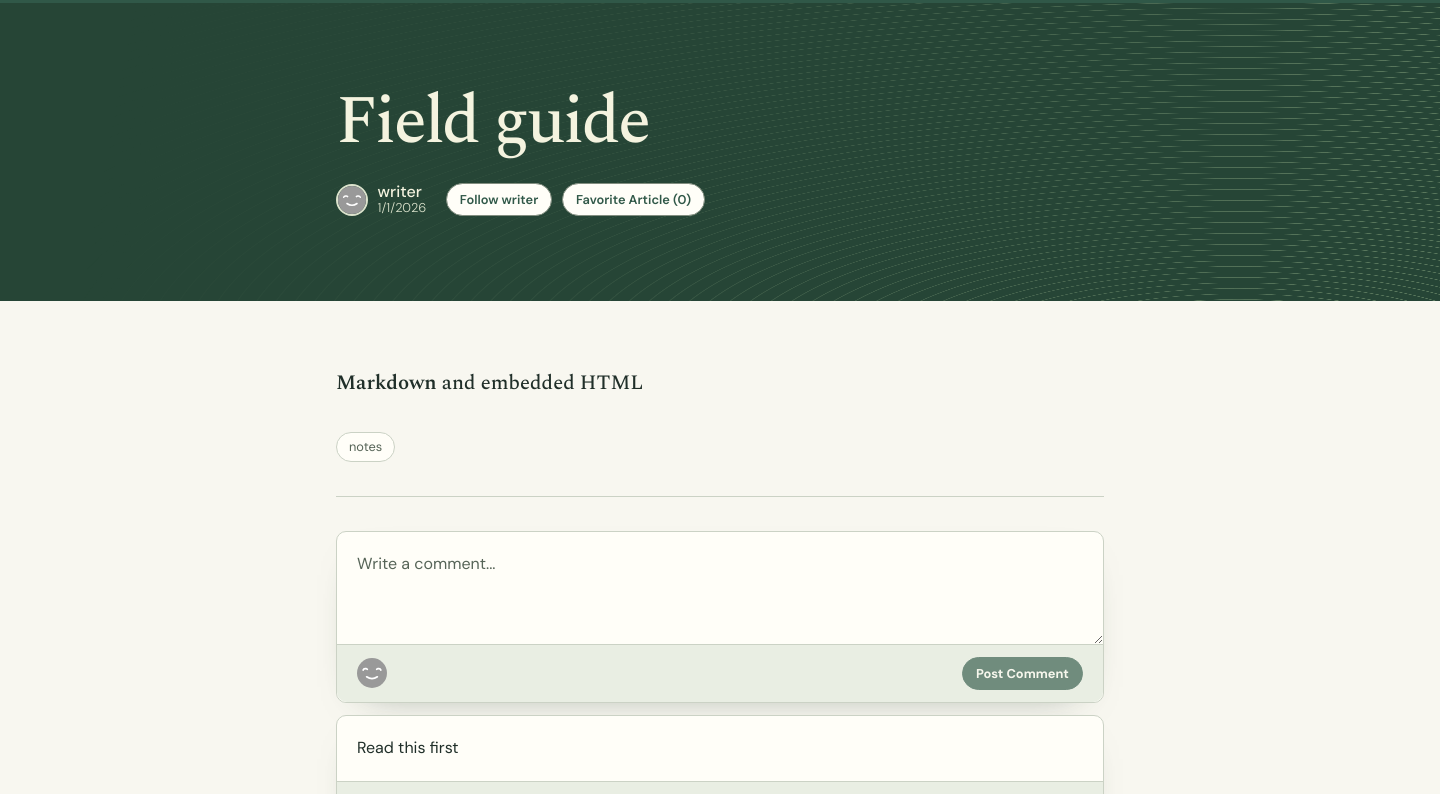
Test: article details and comments › preserves the comment draft on failure, then prepends and clears on success
Expected: the text "Read this first" is shown, top-left (357, 737), bottom-right (459, 758)
Step 1. Type "My comment" into the text box with placeholder "Write a comment..." → x=720, y=588, box top-left (337, 532), bottom-right (1103, 644)
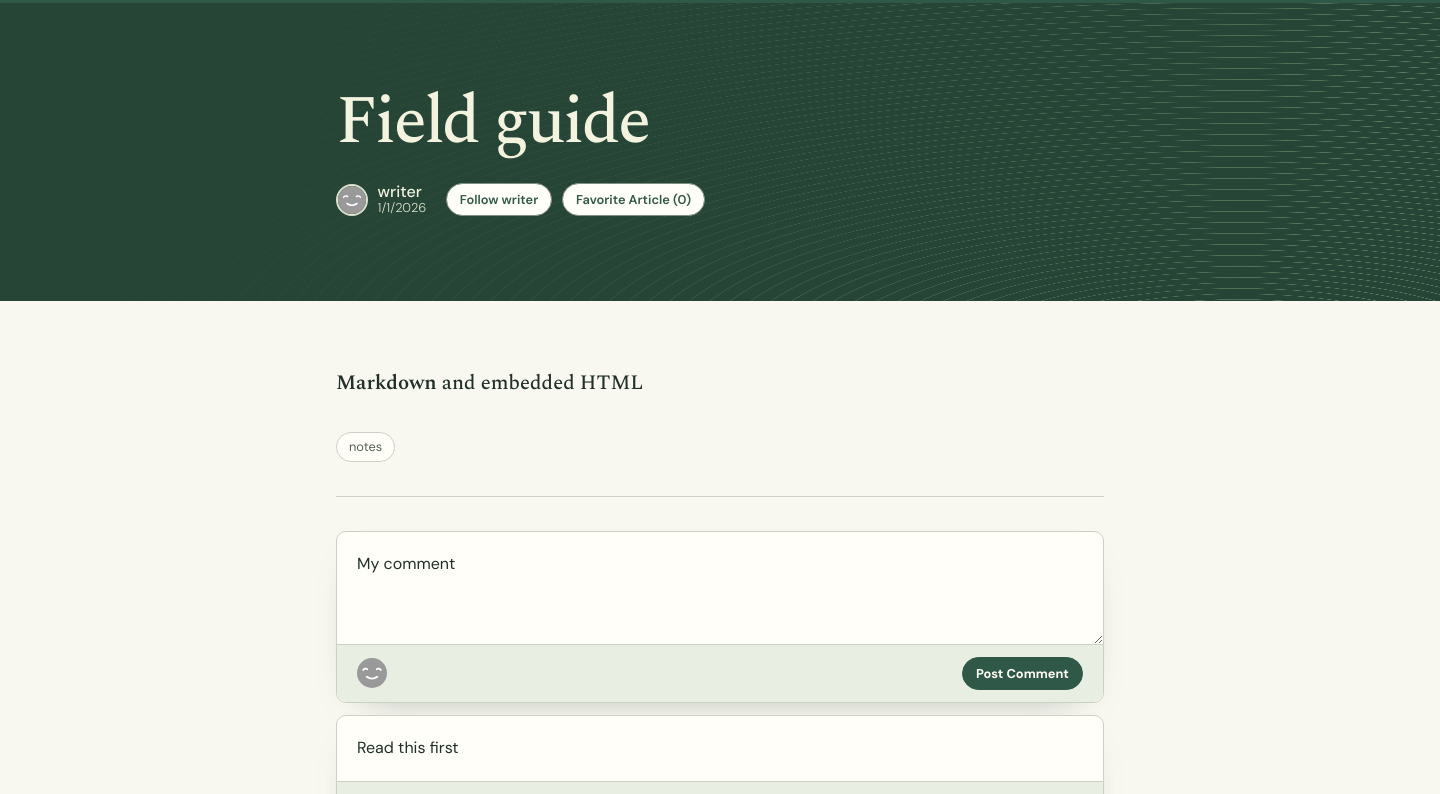
Step 2. Click the button "Post Comment" → x=1022, y=673, box top-left (962, 656), bottom-right (1083, 690)
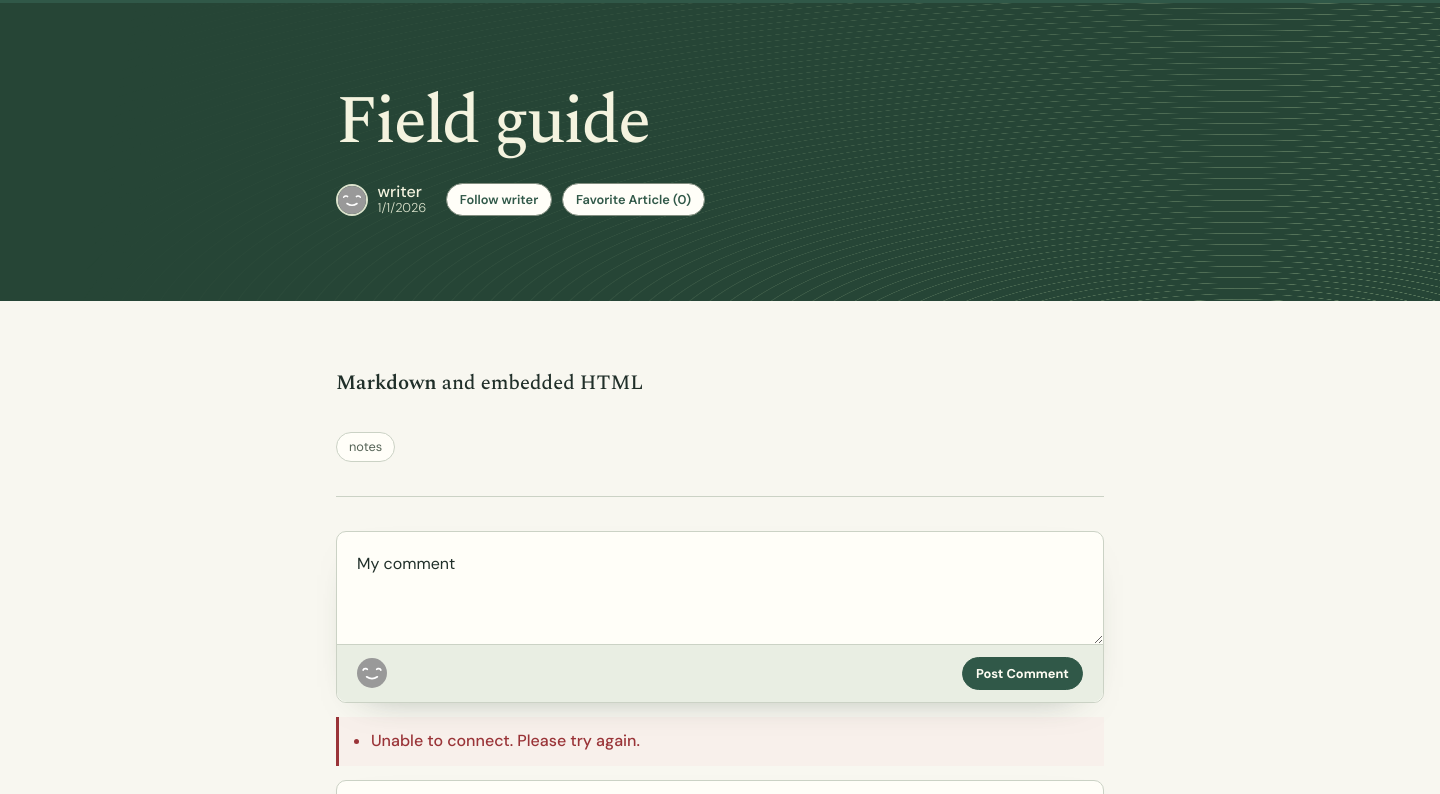
Expected: the message shows "Unable to connect", top-left (371, 730), bottom-right (640, 751)
Step 3. Click the button "Post Comment" → x=1022, y=673, box top-left (962, 656), bottom-right (1083, 690)
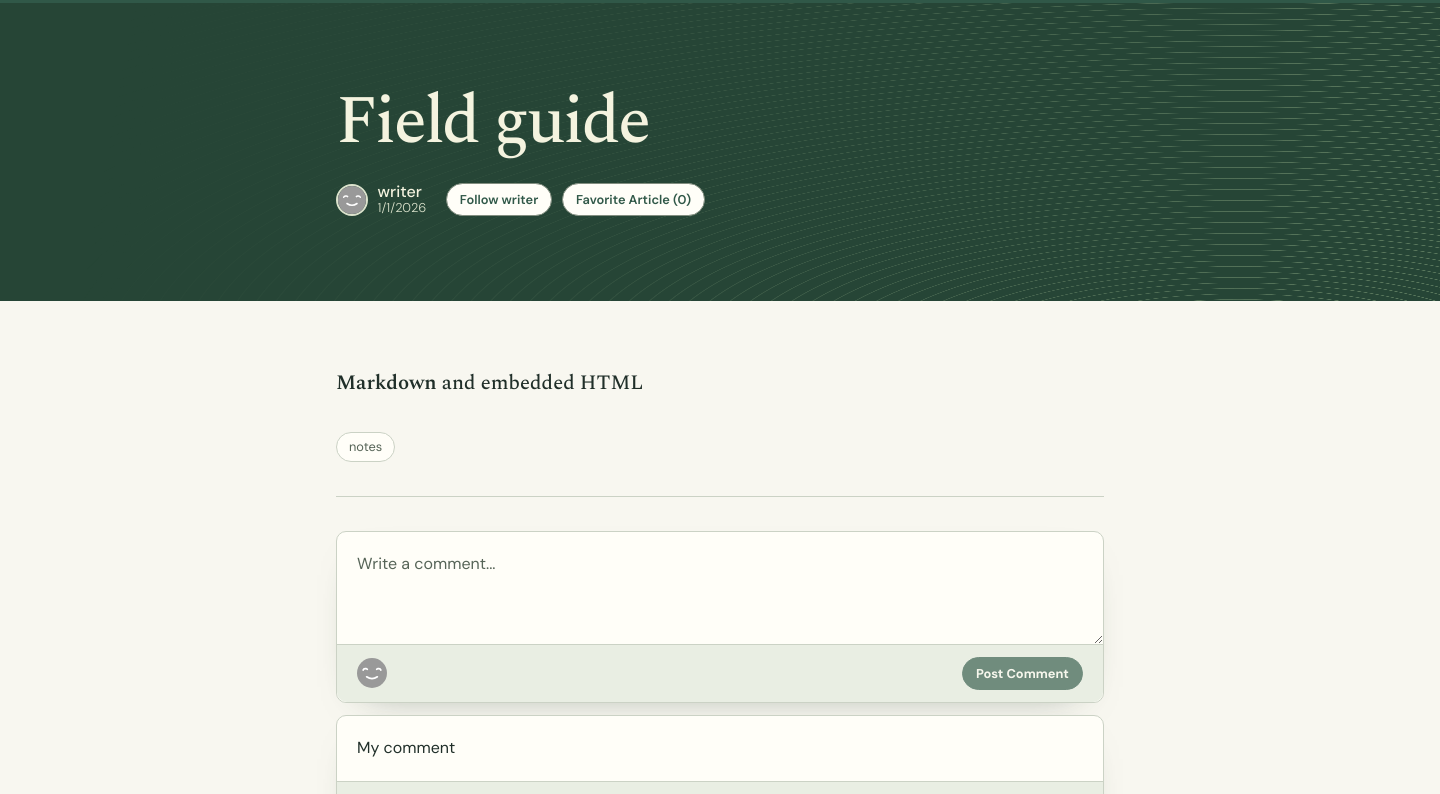
Expected: the text box with placeholder "Write a comment..." is empty, top-left (337, 532), bottom-right (1103, 644)
Expected: the element with class "card-block" reads "My comment", top-left (357, 737), bottom-right (455, 758)
